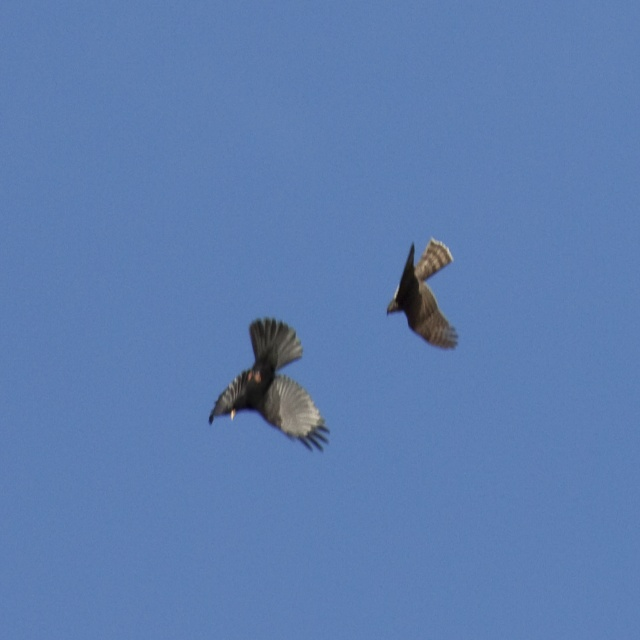Eagle: (204, 306, 339, 467), (376, 231, 463, 362)
